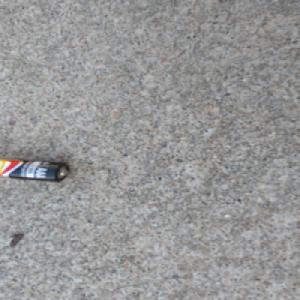Battery: (0, 157, 71, 182)
